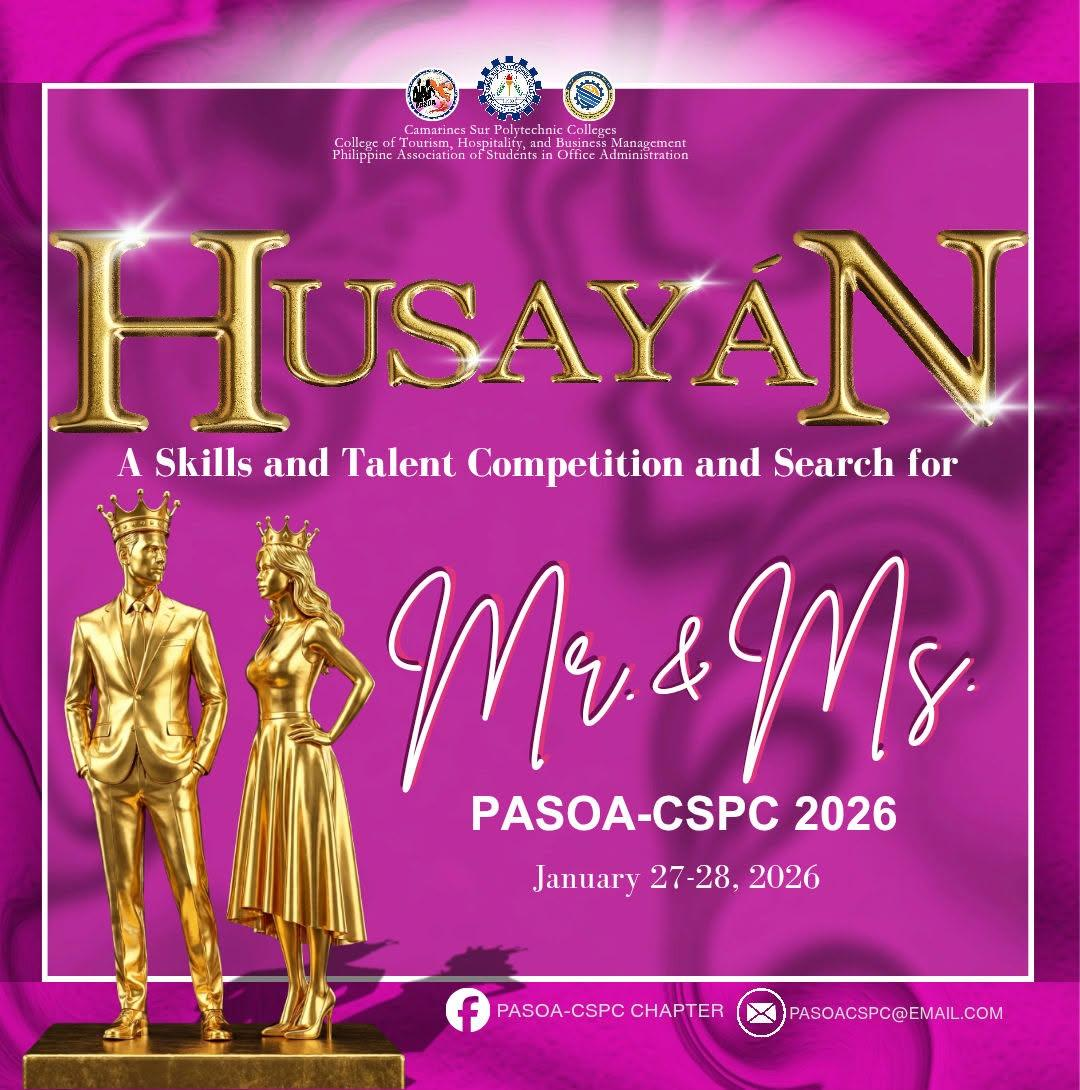embellishment: (15, 490, 410, 1085), (92, 199, 186, 268), (954, 373, 1037, 441), (737, 988, 787, 1038), (671, 265, 726, 306), (445, 988, 491, 1033)
logo: (470, 48, 548, 122), (390, 52, 465, 120), (554, 64, 630, 120)
text: (42, 228, 1017, 431), (383, 530, 980, 820), (114, 442, 964, 485), (458, 784, 913, 844), (302, 122, 710, 175), (522, 854, 825, 905), (788, 992, 1012, 1039), (494, 990, 729, 1028)
underlay: (40, 80, 1036, 980)
